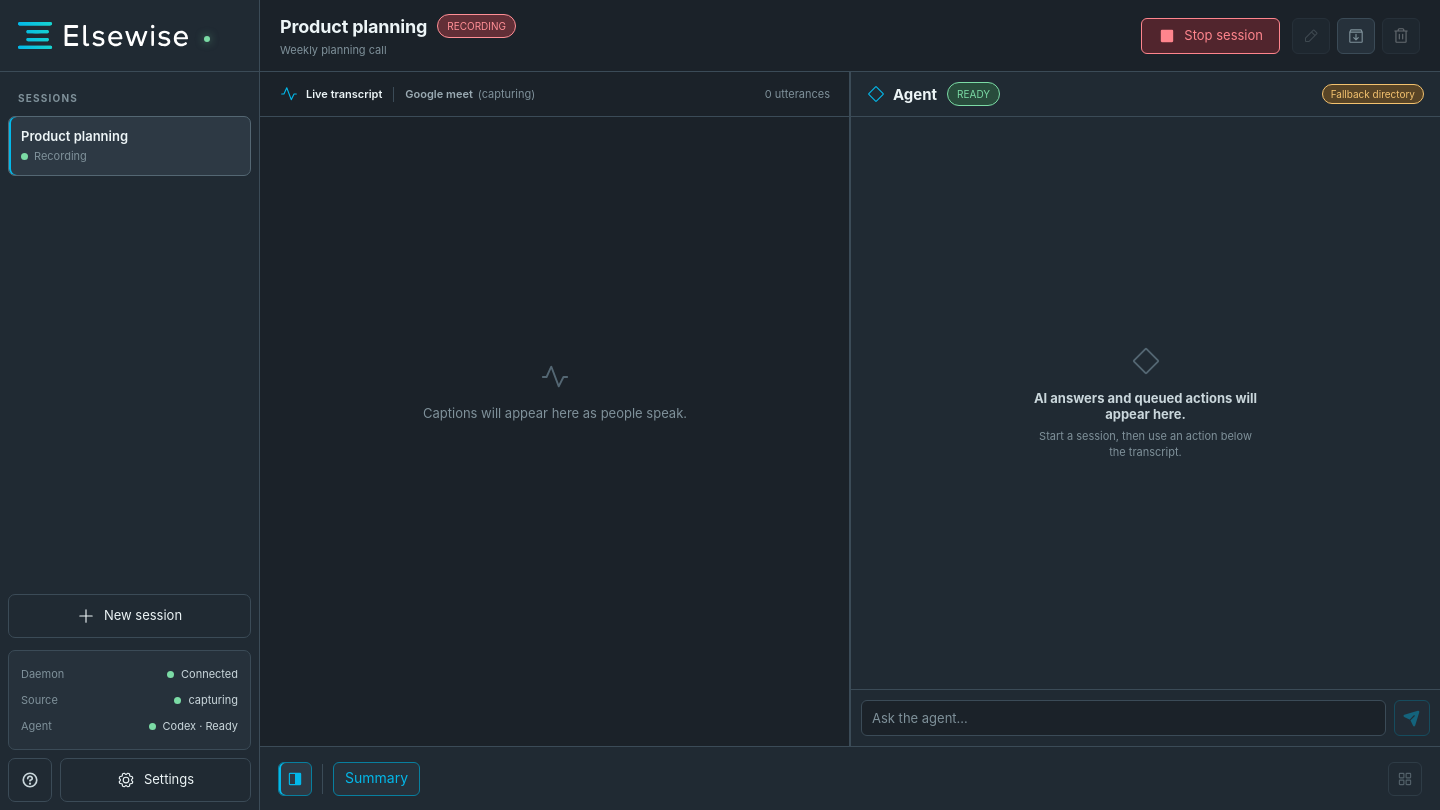
App accessibility › confirms expanded agent permissions with an in-app dialog
Expected: the heading "Product planning" is shown, 280,16 -> 427,36
Click the button "New session" at (130, 616), box 8,594 -> 251,638
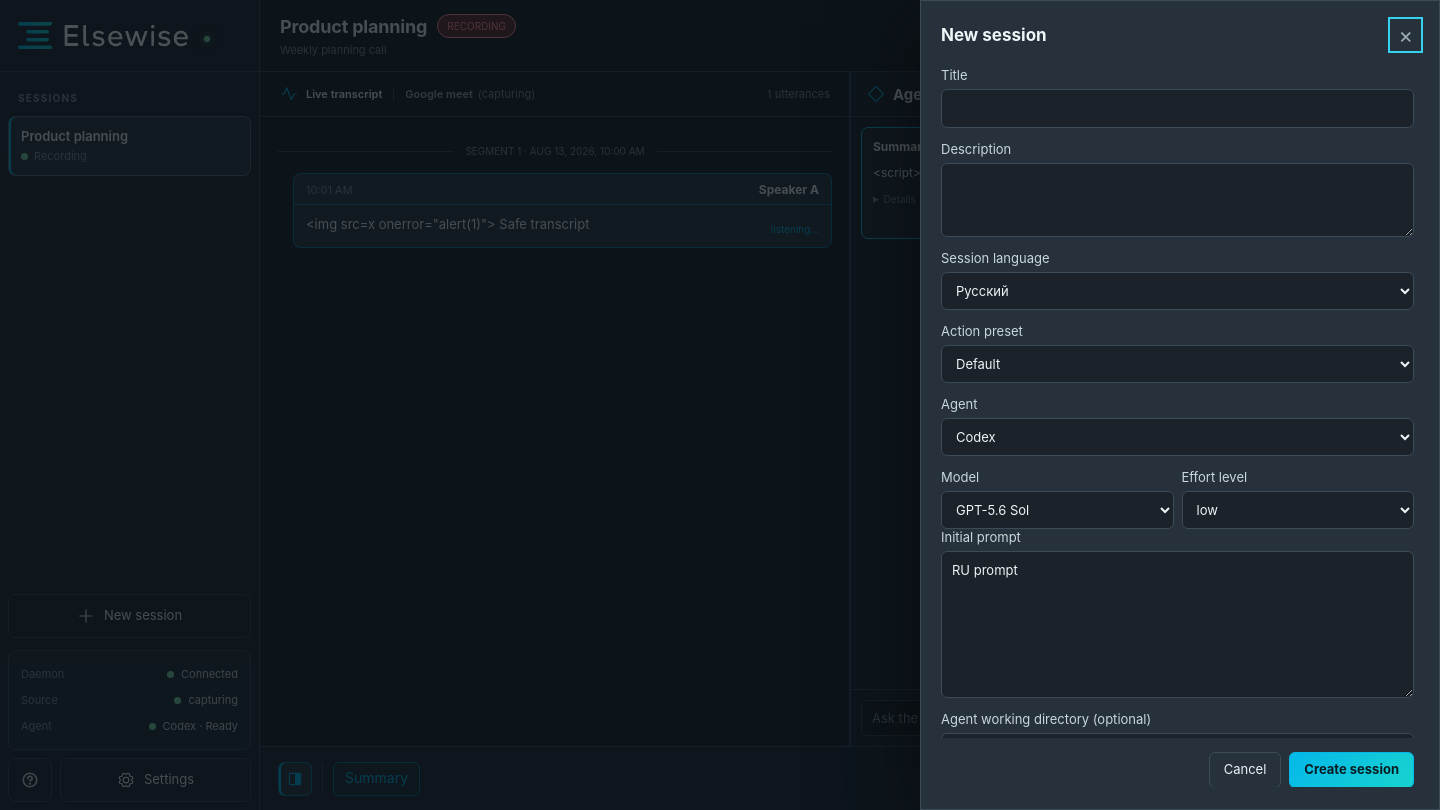
Type "Permission test" into the field labelled "Title" at (1178, 108), box 941,89 -> 1414,128
(page scrolled)
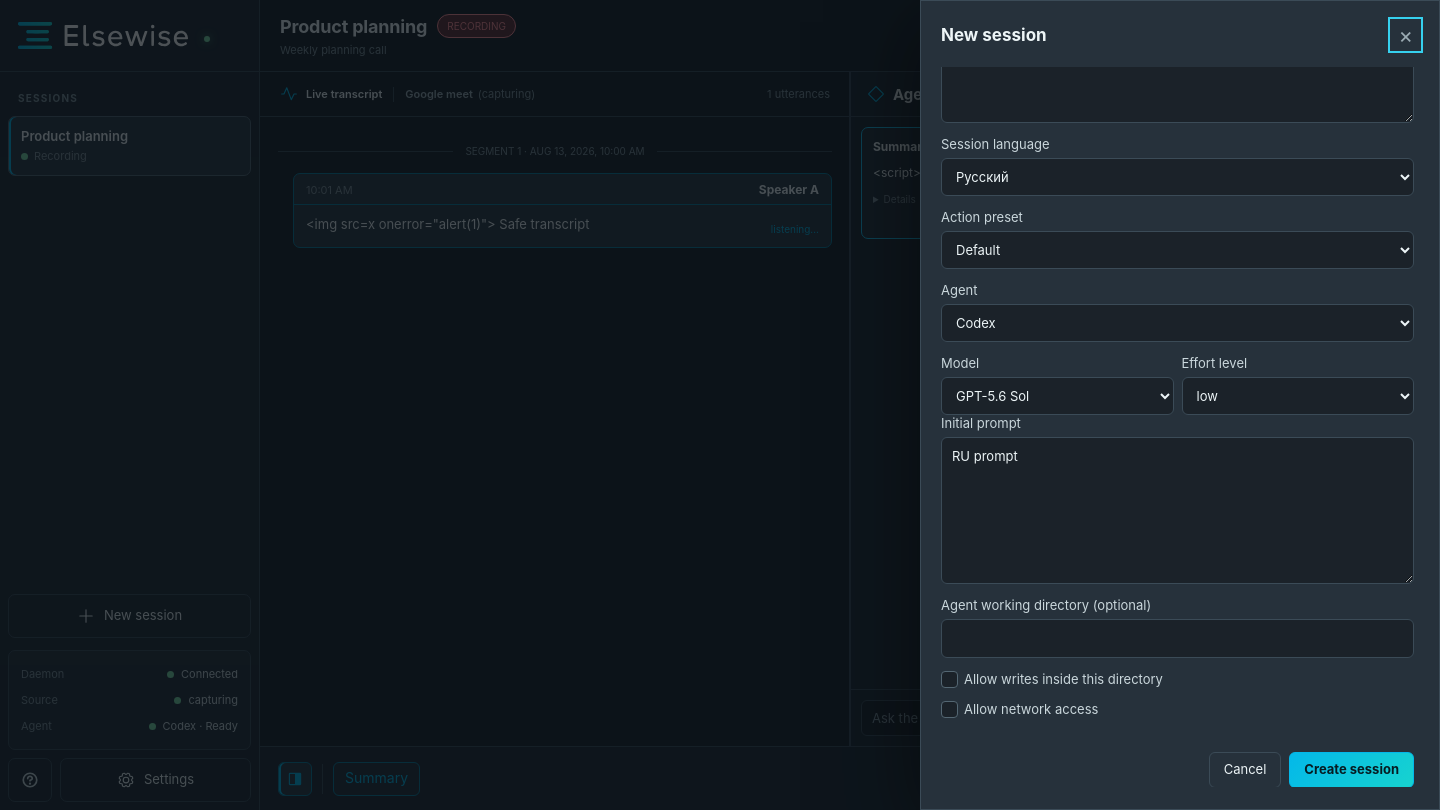
Click the checkbox labelled "Allow network access" at (950, 709), box 941,701 -> 958,718
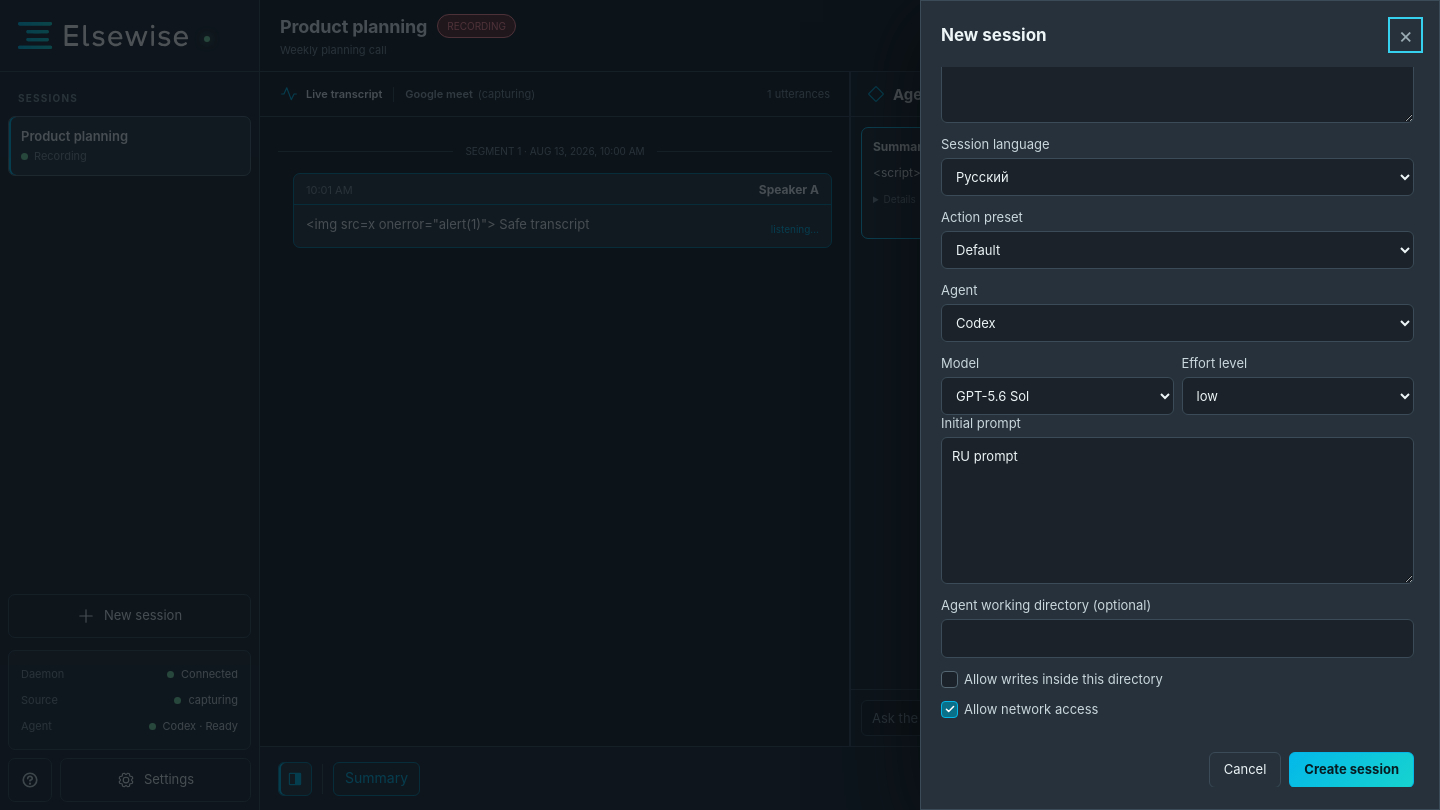
Click the button "Create session" at (1352, 769), box 1289,751 -> 1414,787
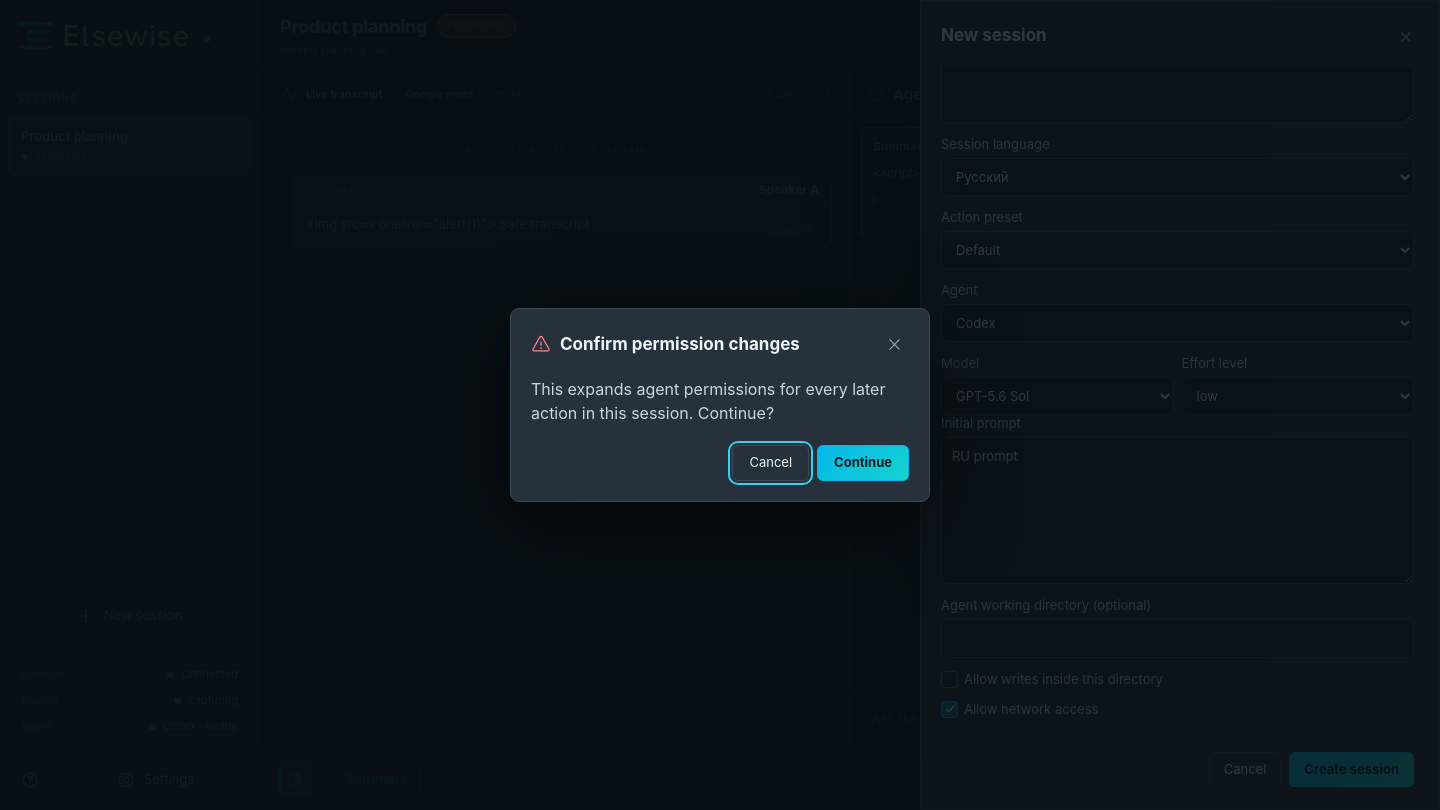
Expected: the text "This expands agent permissions" is shown, 531,379 -> 886,423
Click the button "Continue" at (863, 463), box 817,445 -> 909,481
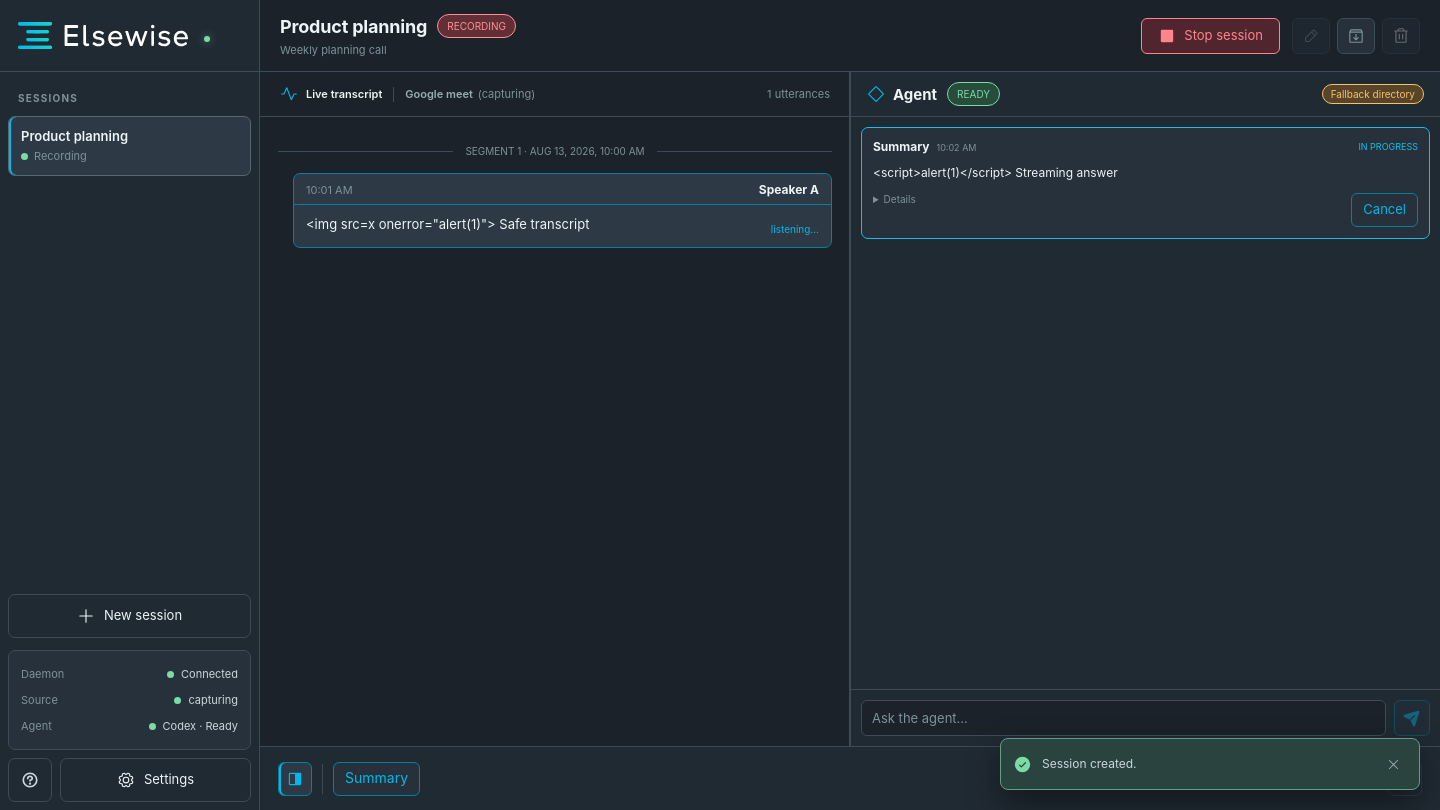
Expected: the message reads "Session created.", 1042,756 -> 1137,771
